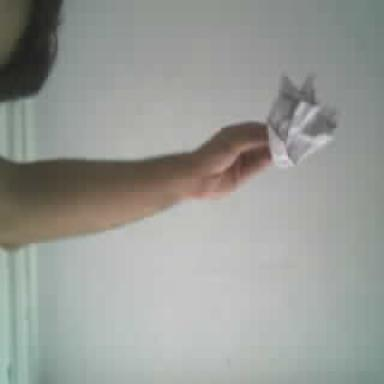paper: (268, 75, 337, 166)
